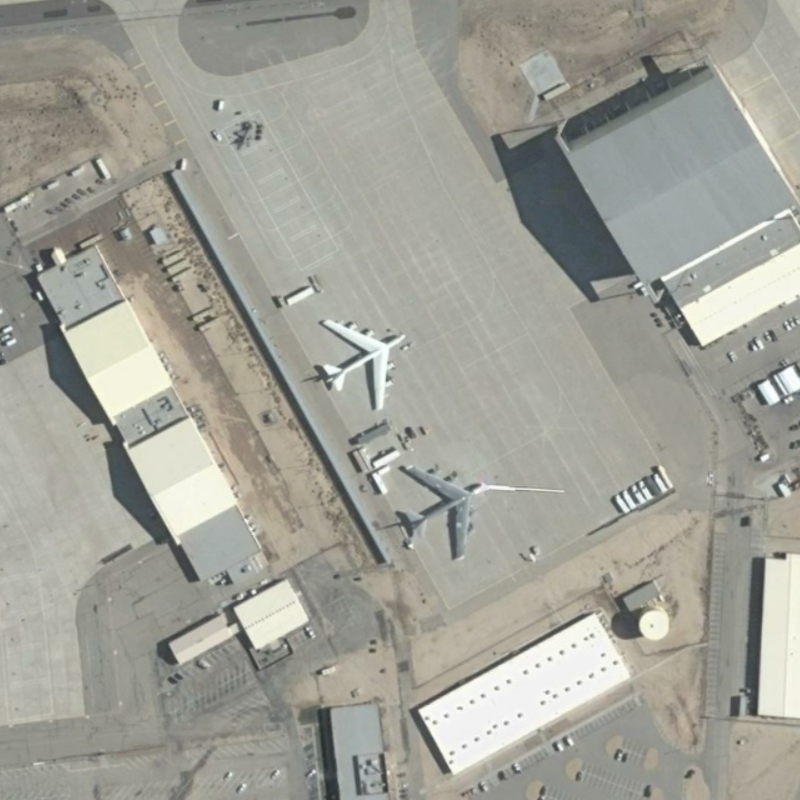A8: (389, 446, 491, 567), (312, 303, 412, 415)
